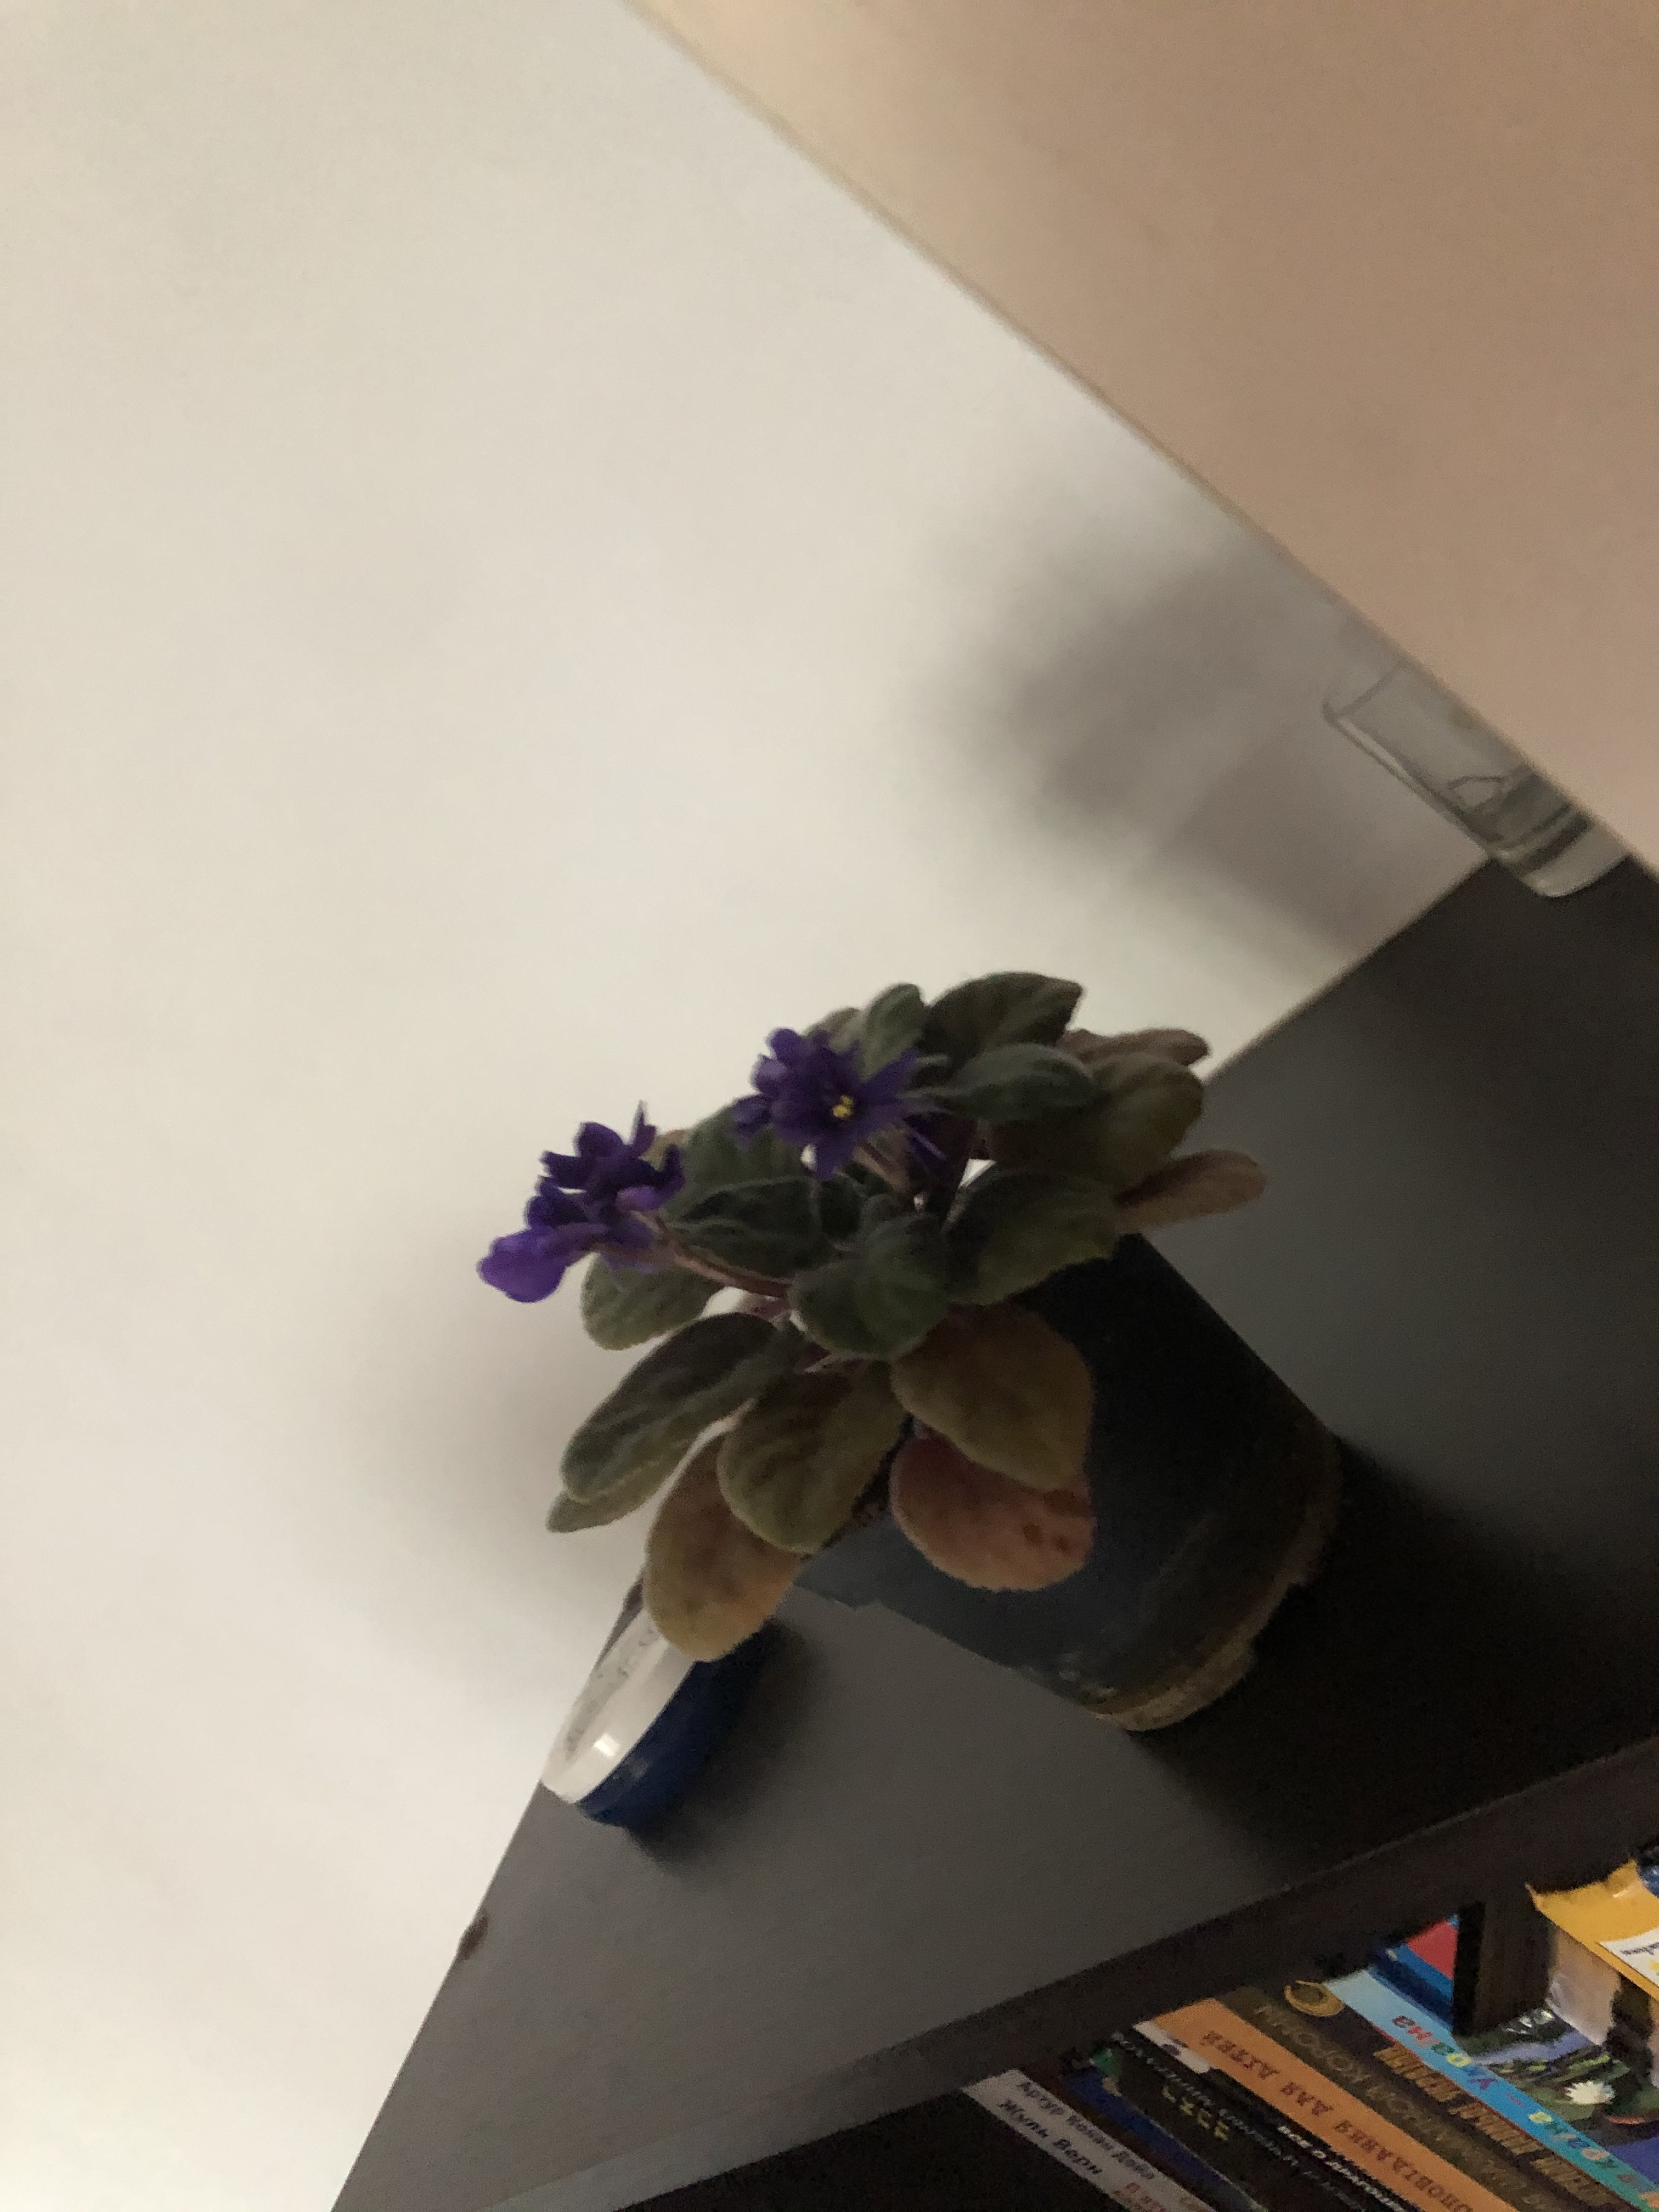ignore: (326, 935, 1375, 1688)
